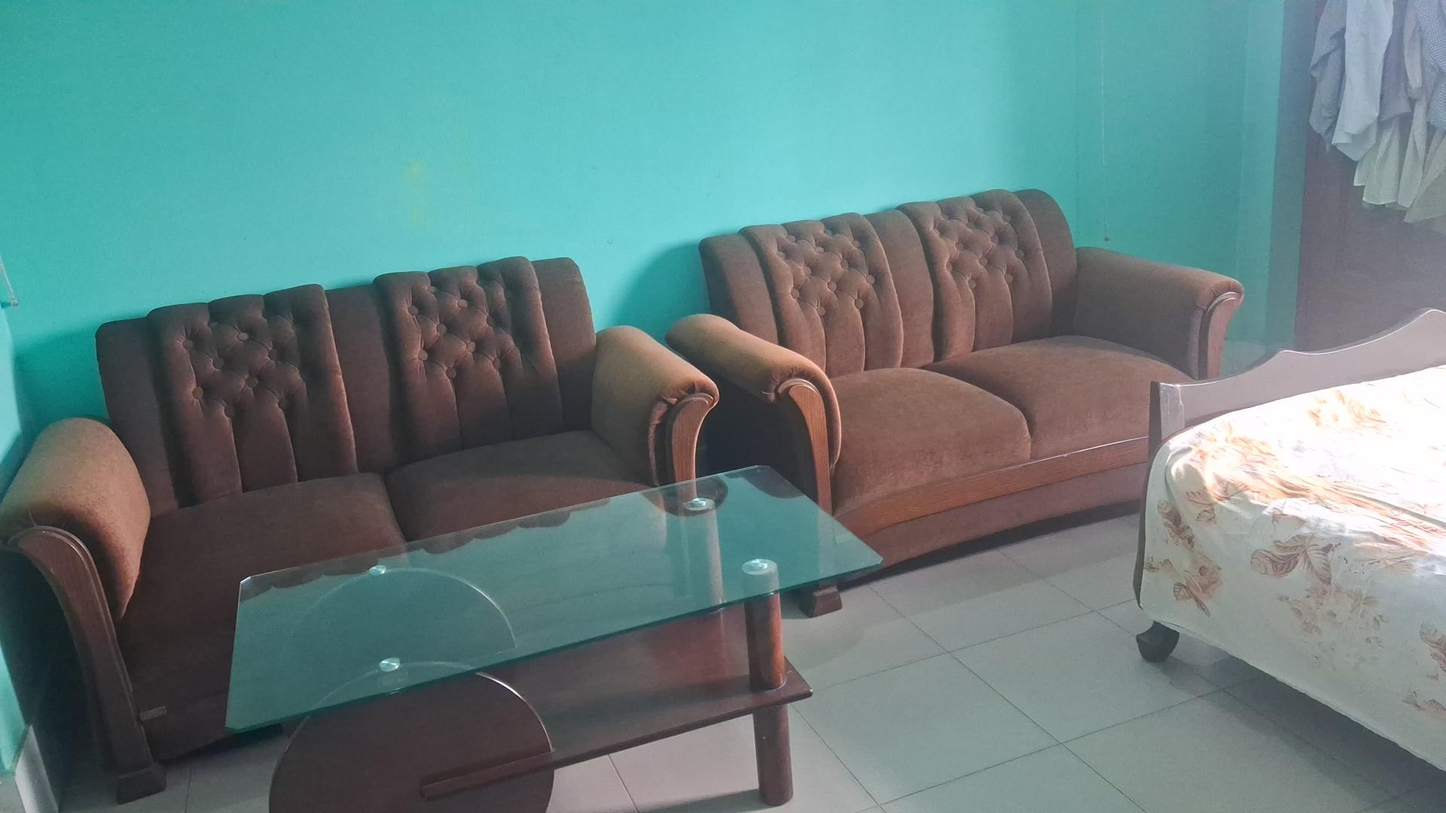Table: (230, 464, 887, 804)
